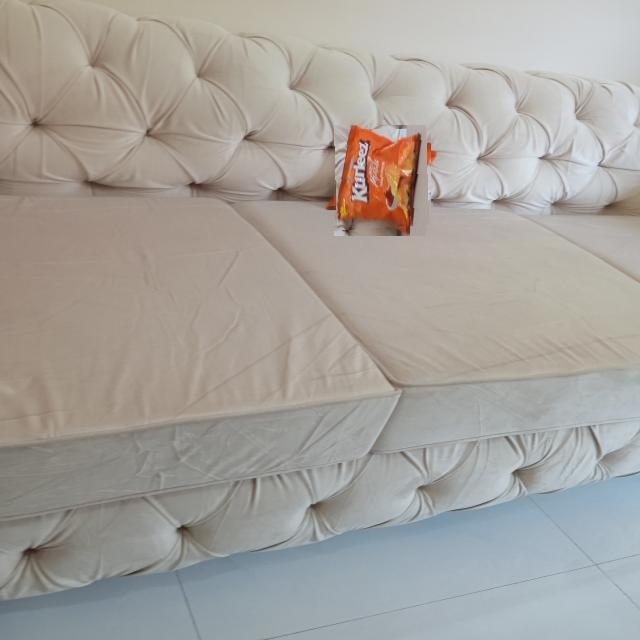Plastic: (329, 129, 431, 231)
